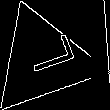L_W: (13, 38, 74, 84)
